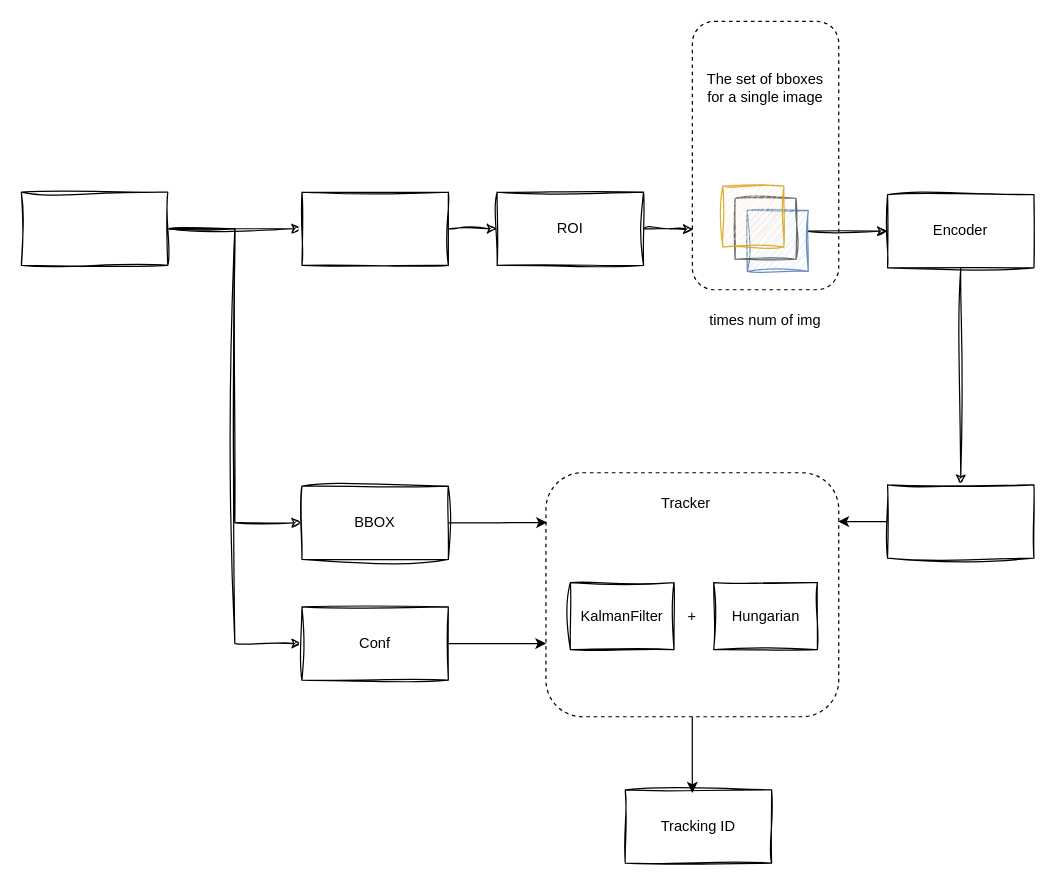
This 1055x885 diagram has some shape labels left out. The centre of each missing label's shape, as x and y in pixels:
"128 D Feature" belongs at [960,521].
"SPP-CSPC Feature" belongs at [374,228].
"YOLO" belongs at [94,228].
